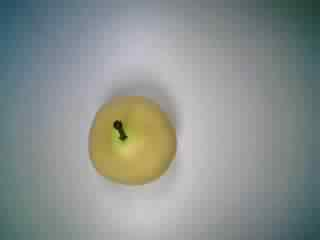pear: (77, 82, 182, 195)
